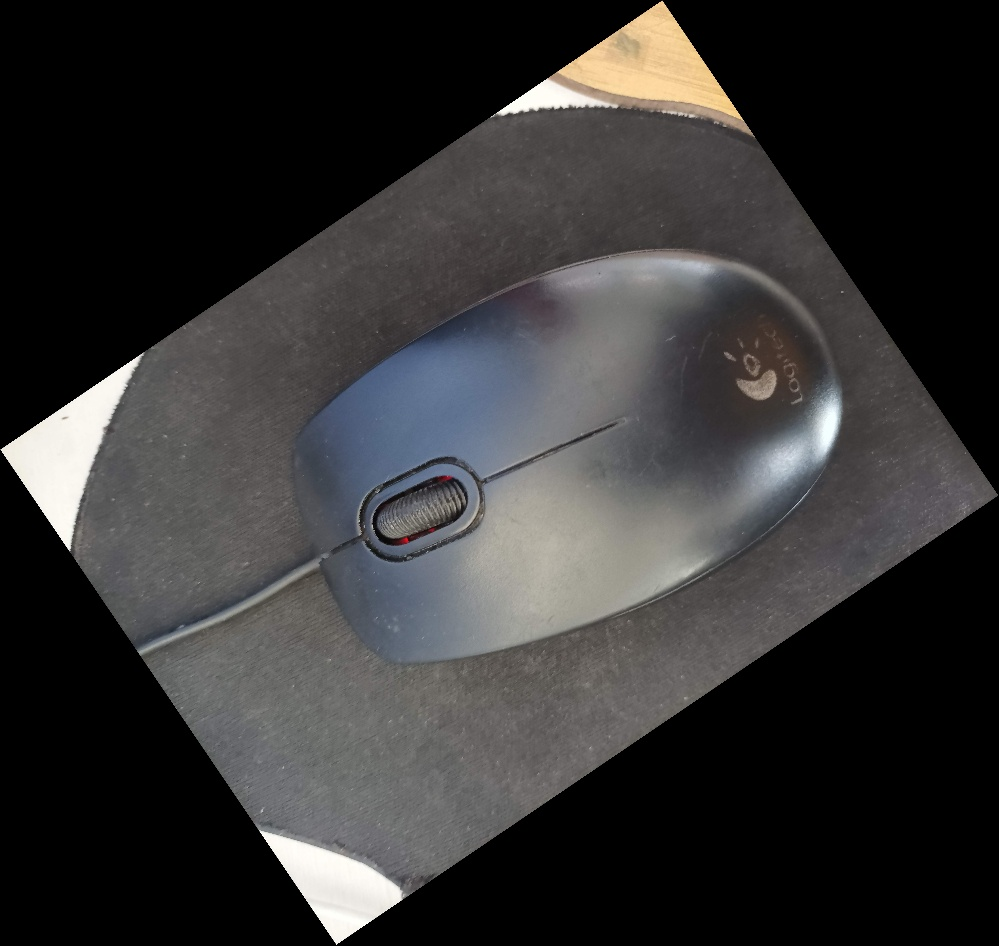mouse: (278, 241, 847, 668)
